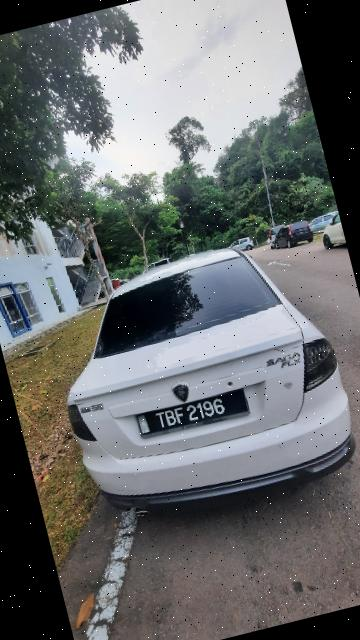License_Plate: (134, 384, 255, 448)
car: (37, 230, 360, 535)
